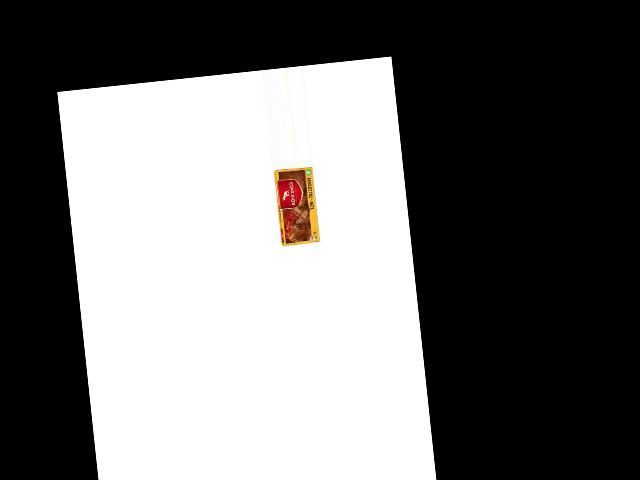chocolate: (271, 165, 326, 247)
